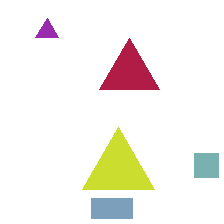rectangle: (91, 198, 132, 218), (194, 153, 218, 177)
triangle: (82, 127, 154, 189), (99, 38, 159, 89), (35, 18, 58, 37)
